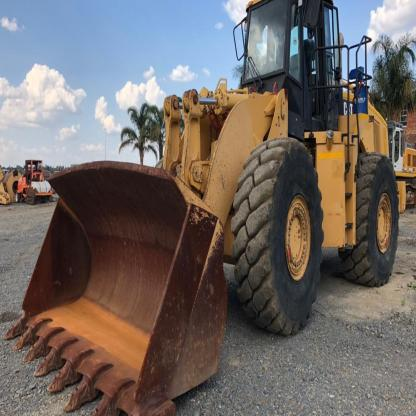bull_dozer/loader/grader: (14, 2, 410, 416)
